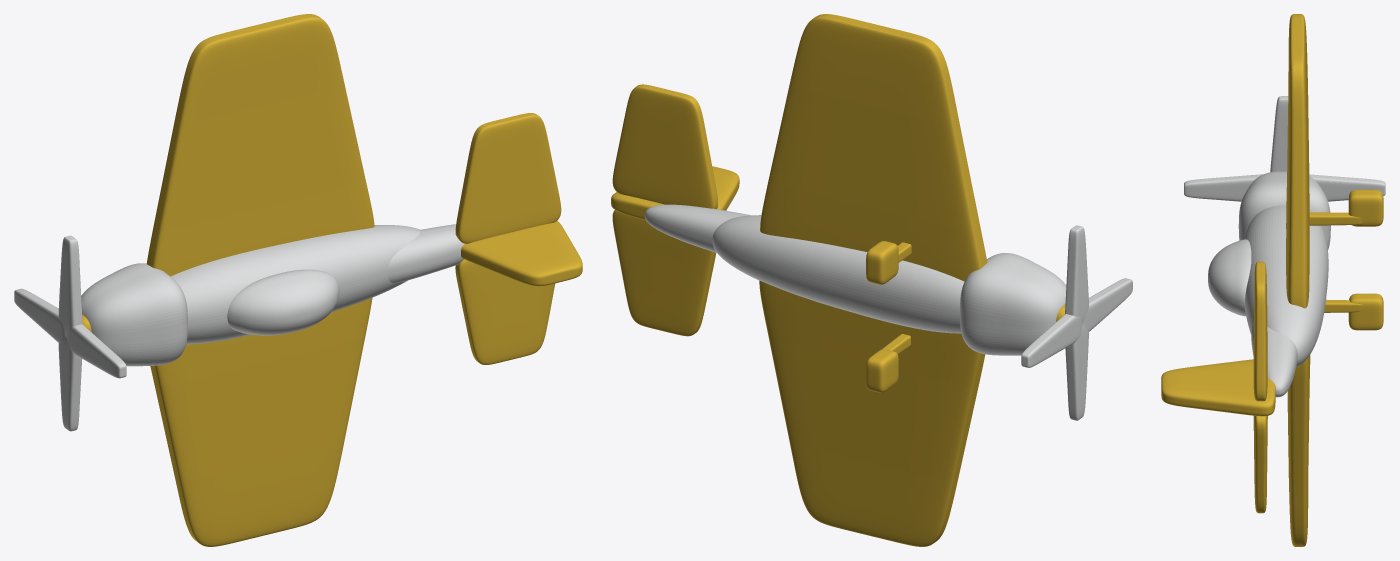
File: airplane_bent_tapered_sq.glb
3 renders of one model, left to right at view 1: azimuth 30°, elevation 25°; view 2: azimuth 150°, elevation 25°; view 3: azimuth 270°, elevation 25°, orthographic. The views are drawn at different scales.
Parts seen in each view (by area): view 1: superquadric_4, superquadric_5, superquadric_0, superquadric_6, superquadric_1, superquadric_7, superquadric_3, superquadric_8, superquadric_2, superquadric_12, superquadric_13, superquadric_10 (+1 smaller); view 2: superquadric_4, superquadric_5, superquadric_0, superquadric_6, superquadric_7, superquadric_1, superquadric_2, superquadric_12, superquadric_13, superquadric_11, superquadric_8, superquadric_10 (+2 smaller); view 3: superquadric_0, superquadric_4, superquadric_8, superquadric_5, superquadric_3, superquadric_1, superquadric_6, superquadric_2, superquadric_10, superquadric_7, superquadric_11, superquadric_14 (+4 smaller).
Part boxes in pixels (<box>): superquadric_4: <box>146,14,374,276</box>; superquadric_5: <box>150,297,372,546</box>; superquadric_0: <box>170,225,420,344</box>; superquadric_6: <box>455,113,561,243</box>; superquadric_1: <box>81,263,187,366</box>; superquadric_7: <box>455,259,555,364</box>; superquadric_3: <box>227,269,339,335</box>; superquadric_8: <box>461,220,582,286</box>; superquadric_2: <box>388,224,464,282</box>; superquadric_12: <box>58,235,82,333</box>; superquadric_13: <box>58,335,82,431</box>; superquadric_10: <box>65,324,126,378</box>; superquadric_4: <box>760,14,987,281</box>; superquadric_5: <box>759,280,985,546</box>; superquadric_0: <box>712,215,964,333</box>; superquadric_6: <box>612,84,717,209</box>; superquadric_7: <box>612,210,716,336</box>; superquadric_1: <box>960,253,1066,355</box>; superquadric_2: <box>645,204,750,252</box>; superquadric_12: <box>1065,225,1088,322</box>; superquadric_13: <box>1065,325,1088,420</box>; superquadric_11: <box>1021,314,1082,367</box>; superquadric_8: <box>611,166,739,219</box>; superquadric_10: <box>1082,278,1132,331</box>; superquadric_0: <box>1244,205,1328,366</box>; superquadric_4: <box>1286,14,1309,308</box>; superquadric_8: <box>1161,359,1275,416</box>; superquadric_5: <box>1287,355,1310,546</box>; superquadric_3: <box>1208,239,1251,316</box>; superquadric_1: <box>1238,171,1330,249</box>; superquadric_6: <box>1253,261,1267,401</box>; superquadric_2: <box>1251,320,1297,397</box>; superquadric_10: <box>1184,174,1262,201</box>; superquadric_7: <box>1253,415,1267,513</box>; superquadric_11: <box>1309,174,1385,201</box>; superquadric_14: <box>1348,189,1383,226</box>.
Size of the model in its own units: 0.9938 by 1 by 0.4187.
